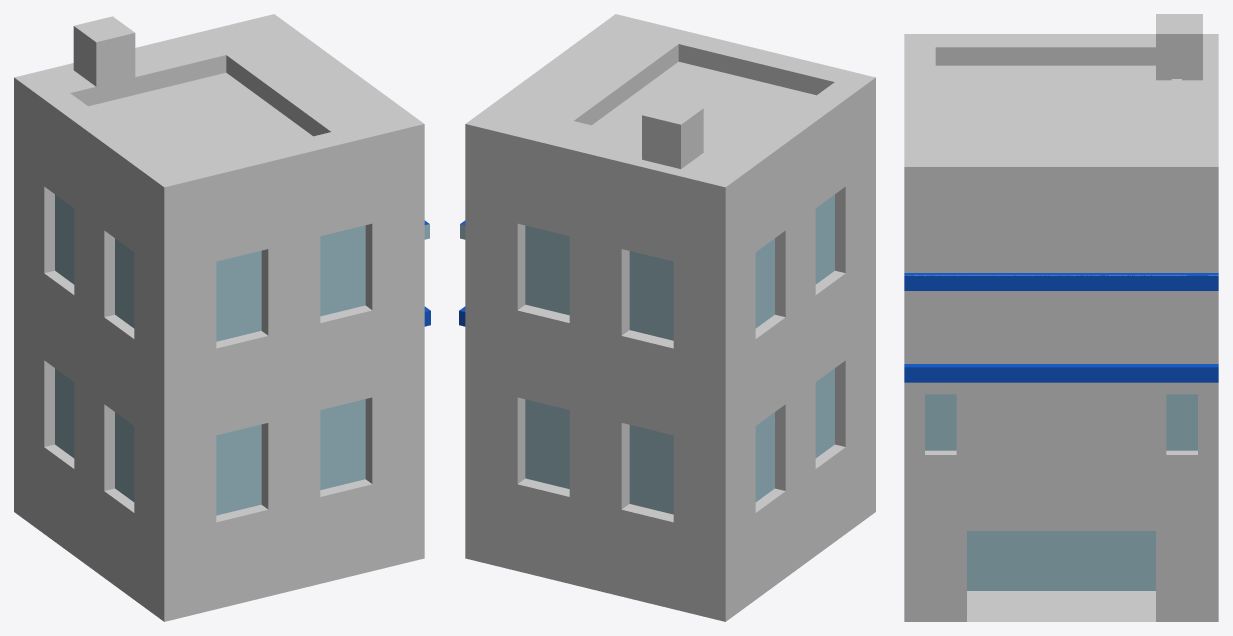
Rendered from police.fbx.
3 views of the same model, side by side, from view 1: azimuth 30°, elevation 25°; view 2: azimuth 150°, elevation 25°; view 3: azimuth 270°, elevation 25° (orthographic). The views are drawn at different scales.
Parts seen in each view (by area): view 1: Cube; view 2: Cube; view 3: Cube.
Boxes of the visible parts, bbox=[...] form: Cube: bbox=[14, 14, 430, 621]; Cube: bbox=[459, 14, 875, 621]; Cube: bbox=[904, 14, 1218, 621].
Bounding box in the file's own units: 205 × 352 × 200.
